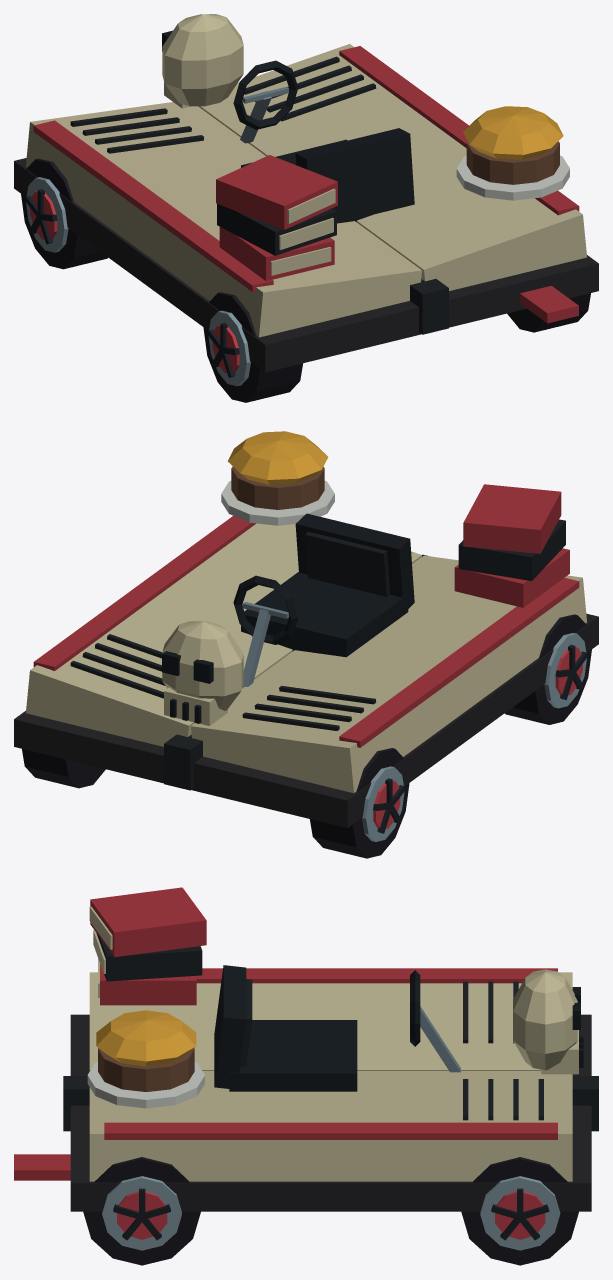
Rendered from kart.glb.
3 renders of one model, top to bottom at view 1: azimuth 30°, elevation 25°; view 2: azimuth 150°, elevation 25°; view 3: azimuth 270°, elevation 25°, orthographic. The views are drawn at different scales.
Visible parts, largest first — view 1: identity-book-book-open-pages-and-spine, identity-book-motif-books, identity-book-driver-cockpit, identity-book-motif-food, identity-book-motif-skull, wheel-rear-left, wheel-front-left, wheel-rear-right; view 2: identity-book-book-open-pages-and-spine, identity-book-driver-cockpit, identity-book-motif-books, identity-book-motif-food, identity-book-motif-skull, wheel-front-left, wheel-rear-left, wheel-front-right; view 3: identity-book-book-open-pages-and-spine, identity-book-driver-cockpit, identity-book-motif-books, identity-book-motif-food, wheel-front-right, wheel-rear-right, identity-book-motif-skull.
Boxes of the visible parts, <box> form: identity-book-book-open-pages-and-spine: <box>14,44,598,372</box>; identity-book-motif-books: <box>216,155,337,281</box>; identity-book-driver-cockpit: <box>233,60,414,223</box>; identity-book-motif-food: <box>456,106,569,200</box>; identity-book-motif-skull: <box>162,14,243,108</box>; wheel-rear-left: <box>203,292,302,402</box>; wheel-front-left: <box>21,158,108,269</box>; wheel-rear-right: <box>507,293,590,332</box>; identity-book-book-open-pages-and-spine: <box>14,516,598,827</box>; identity-book-driver-cockpit: <box>233,513,414,688</box>; identity-book-motif-books: <box>454,484,569,607</box>; identity-book-motif-food: <box>221,431,334,525</box>; identity-book-motif-skull: <box>162,621,243,725</box>; wheel-front-left: <box>310,748,409,858</box>; wheel-rear-left: <box>504,614,591,724</box>; wheel-front-right: <box>22,749,105,788</box>; identity-book-book-open-pages-and-spine: <box>14,968,598,1211</box>; identity-book-driver-cockpit: <box>214,965,461,1091</box>; identity-book-motif-books: <box>89,887,206,1005</box>; identity-book-motif-food: <box>87,1010,204,1108</box>; wheel-front-right: <box>461,1157,578,1265</box>; wheel-rear-right: <box>83,1157,200,1265</box>; identity-book-motif-skull: <box>513,969,583,1074</box>.
Size of the model in its own units: 2.01 by 1.16 by 2.78.
